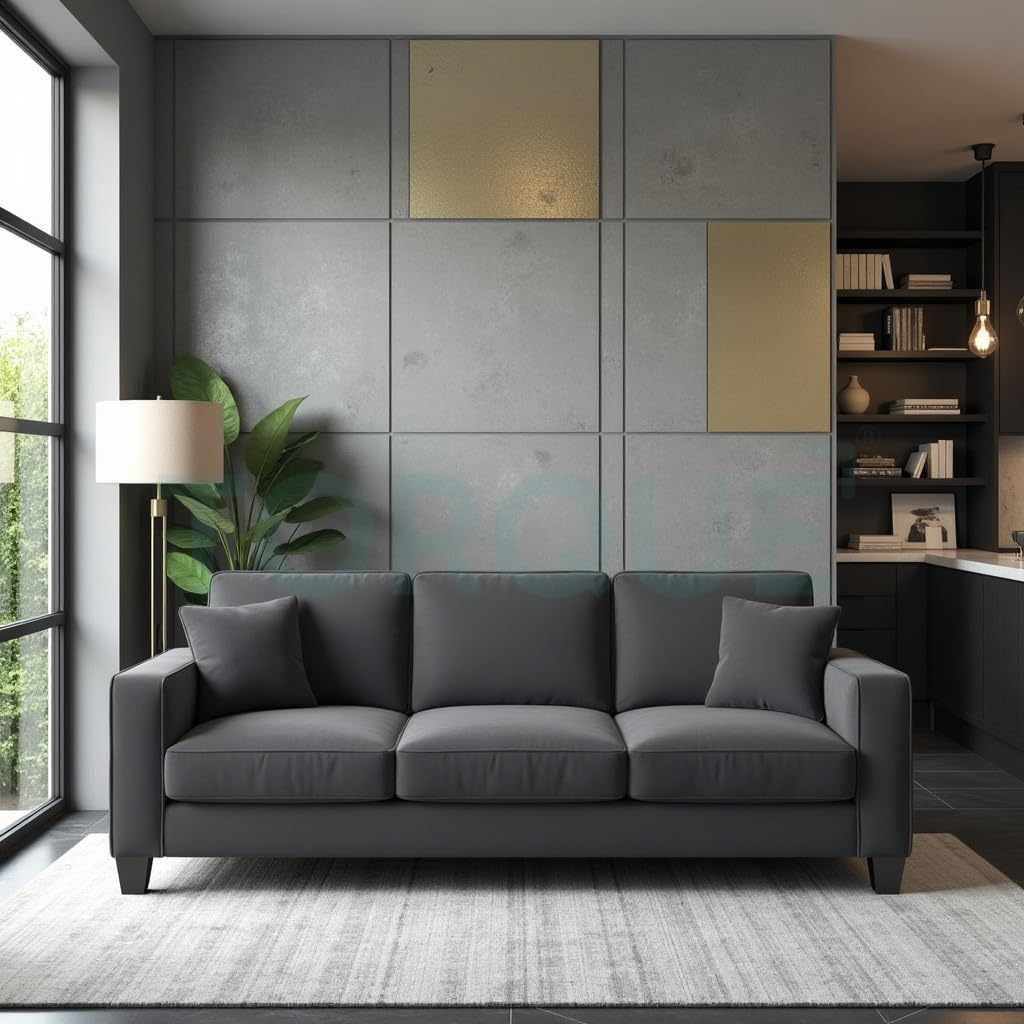3seatersofa: (110, 571, 911, 893)
backrest: (210, 569, 814, 715)
base: (162, 800, 859, 858)
leftarmrest: (824, 646, 914, 856)
leg: (864, 854, 907, 896), (115, 858, 153, 895)
pillow: (180, 595, 319, 725), (703, 596, 843, 725)
rightarmrest: (109, 647, 197, 858)
seat: (162, 705, 857, 800)
